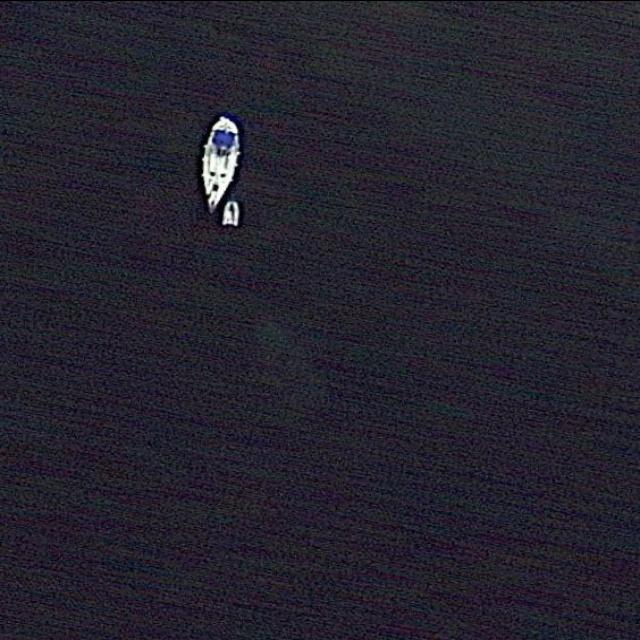ship: (198, 112, 244, 214), (216, 196, 242, 230)
